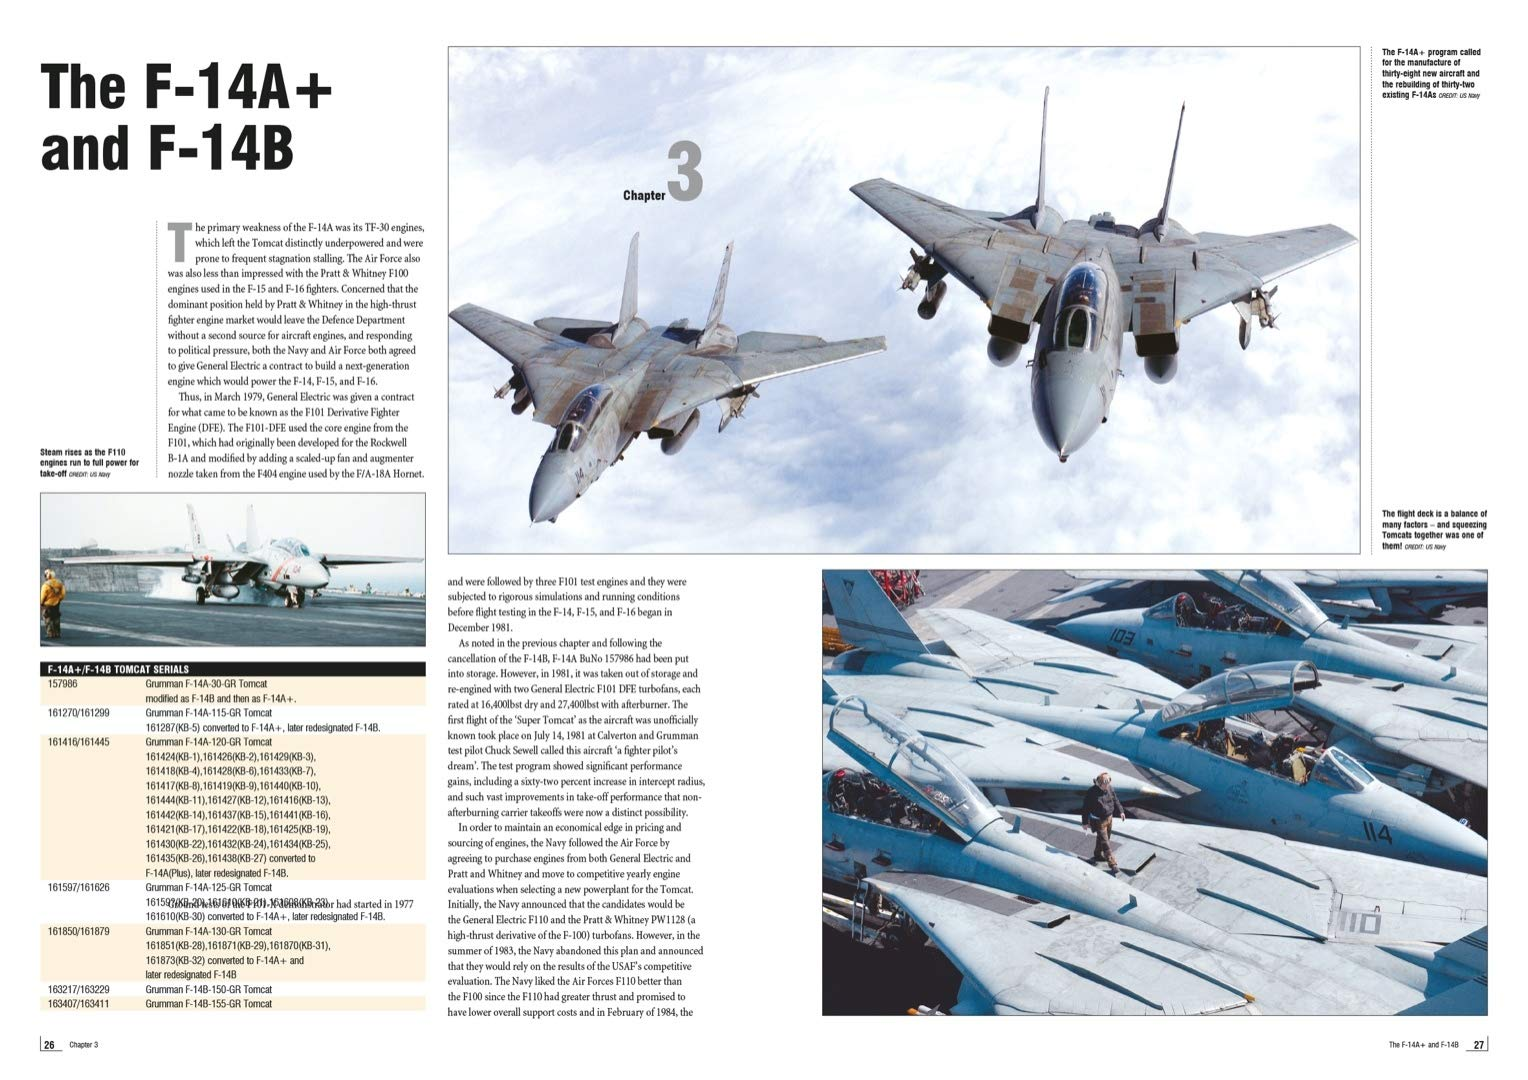F14: (822, 693, 1488, 1015), (822, 568, 1488, 878), (848, 84, 1360, 463), (445, 229, 887, 528), (1045, 569, 1487, 819), (46, 503, 426, 608), (1043, 569, 1488, 623)
